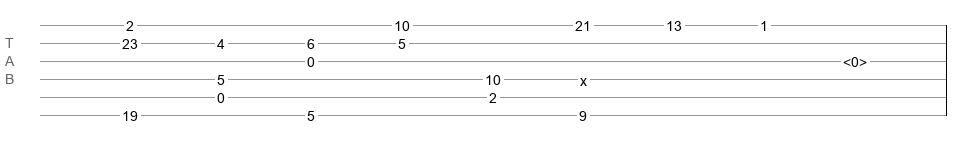0: (217, 90, 225, 100), (307, 54, 315, 64)
1: (760, 18, 768, 28)
10: (394, 18, 410, 28), (485, 72, 501, 82)
13: (666, 18, 682, 28)
19: (122, 108, 138, 118)
2: (126, 18, 134, 28), (489, 90, 497, 100)
21: (575, 18, 591, 28)
23: (122, 36, 138, 46)
4: (217, 36, 225, 46)
5: (217, 72, 225, 82), (307, 108, 315, 118), (398, 36, 406, 46)
6: (307, 36, 315, 46)
9: (579, 108, 587, 118)
harmonic: (843, 54, 867, 64)
x: (580, 73, 587, 81)
